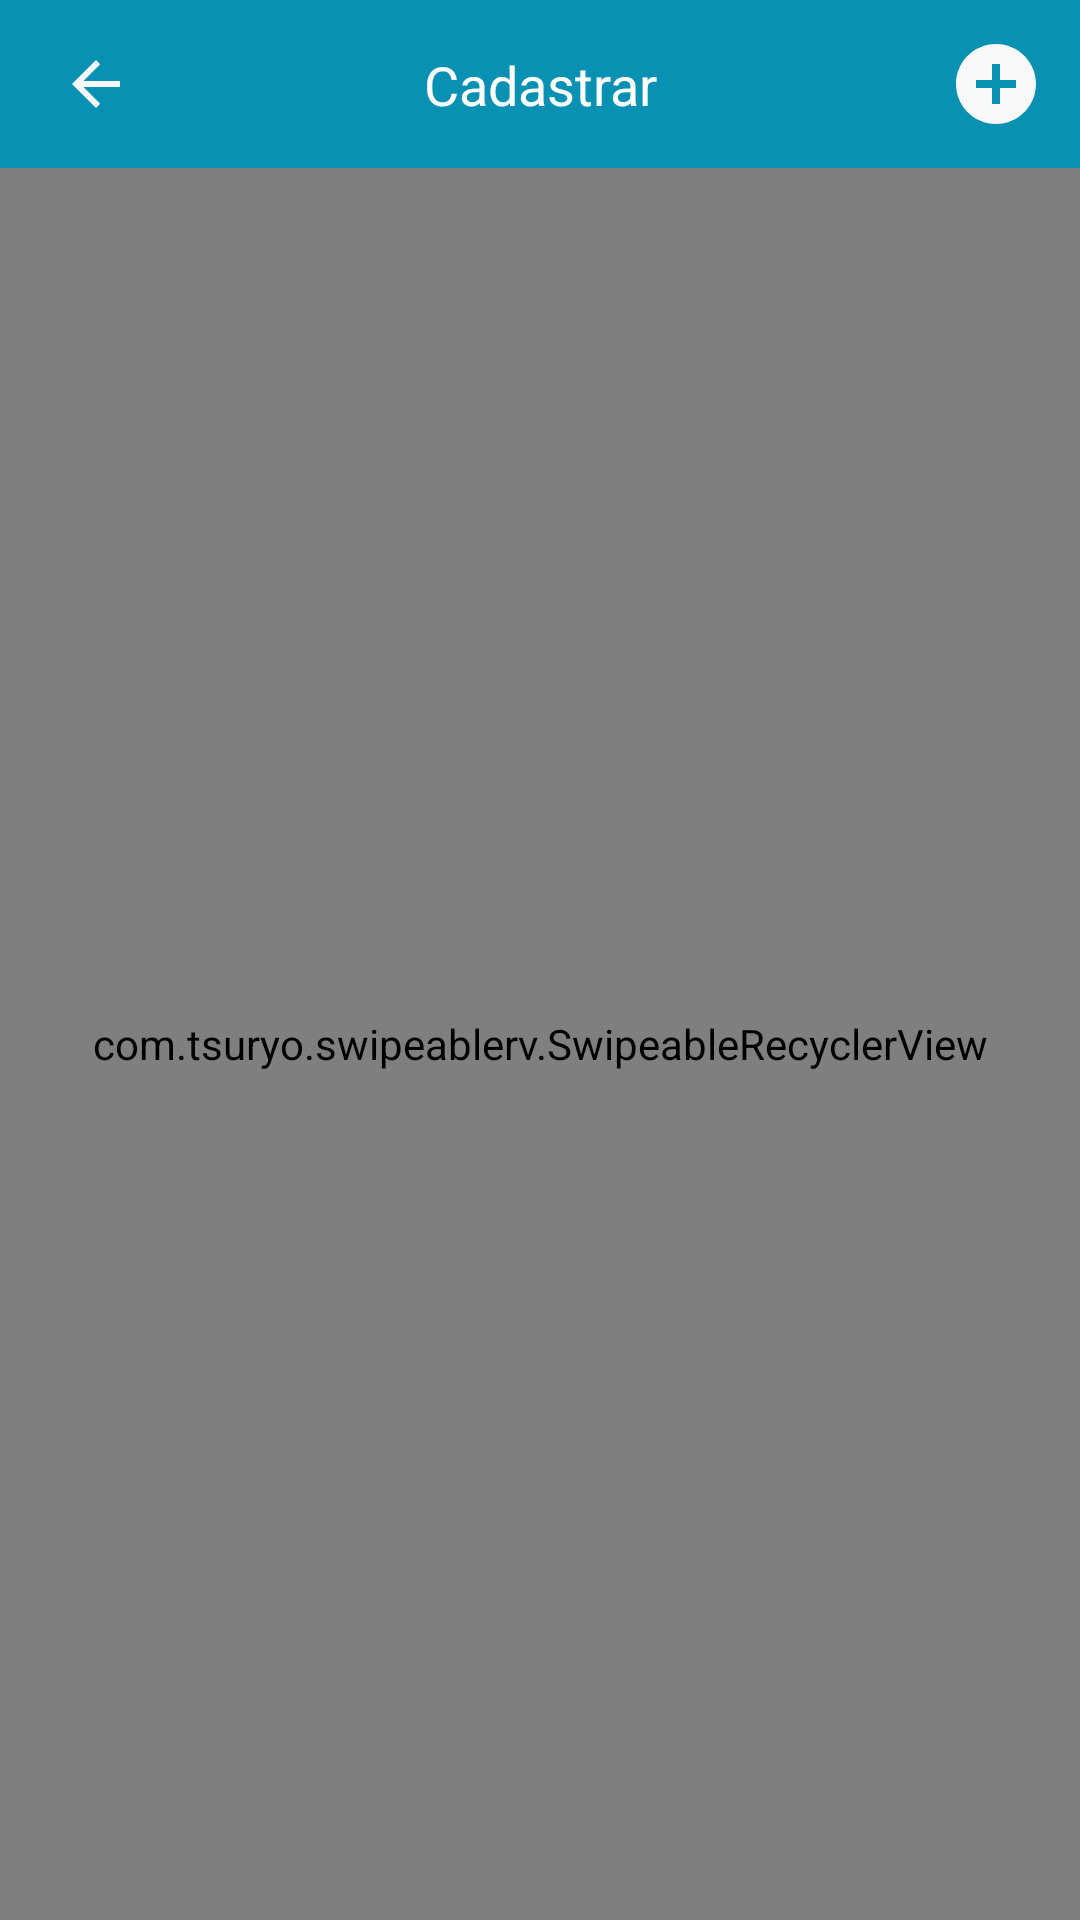

Where to tap for icons on this 1080w x 1920h app screen, as point (x, y):
add: point (996, 84)
goback: point (96, 84)
